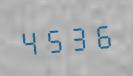five: (42, 22, 65, 56)
four: (18, 24, 41, 58)
six: (90, 17, 113, 51)
three: (66, 20, 89, 53)
